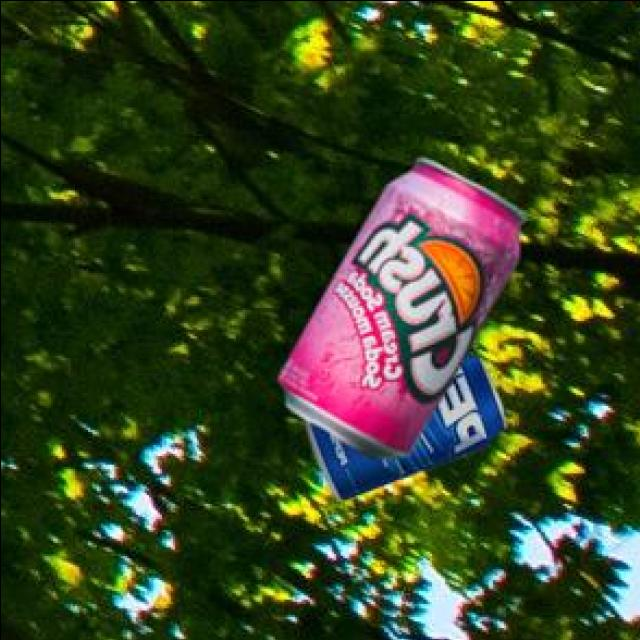logam: (280, 153, 528, 456), (308, 352, 508, 495)
